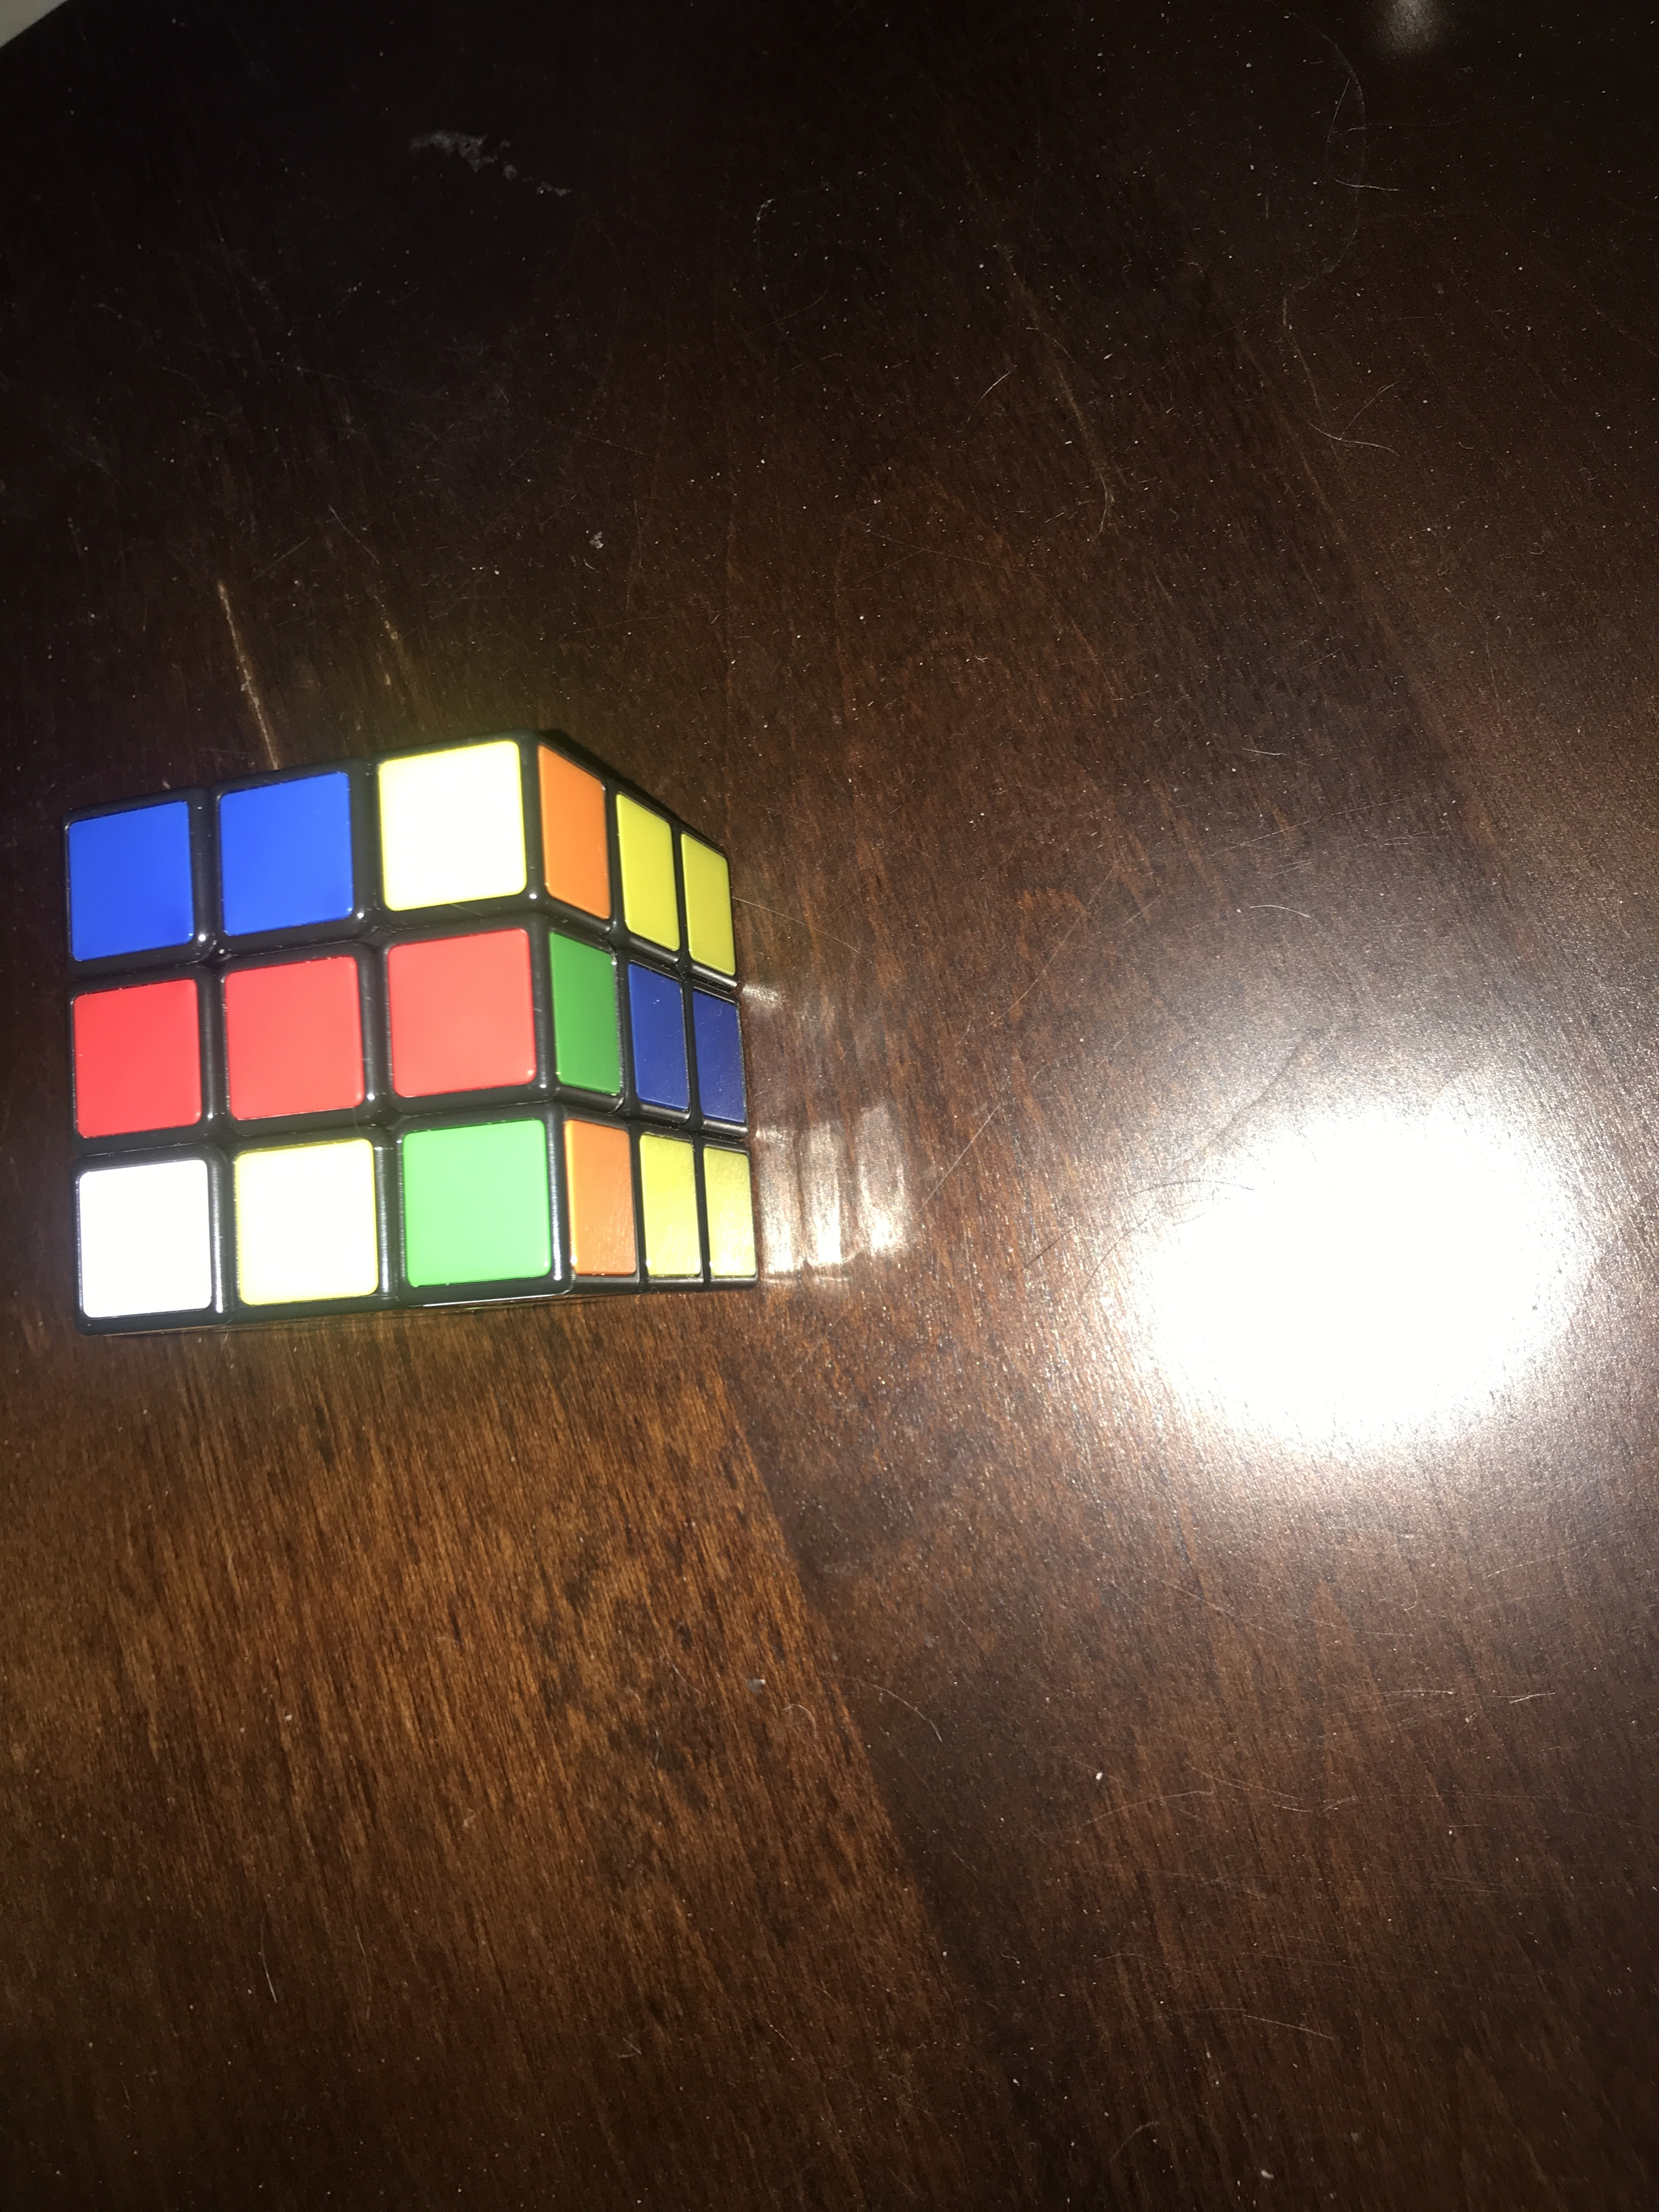rubiks: (64, 737, 796, 1350)
